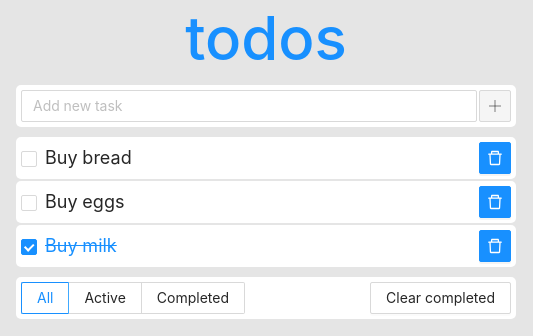
Toolbar › Filters to active todos
Click the radio button "Active" at (106, 298), box [70, 282, 142, 314]
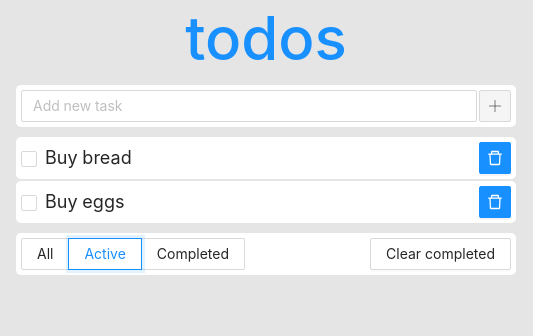
Expected: the number of elements with class "app__todo-item" is 2, [16, 137, 516, 179]; [16, 181, 516, 223]
